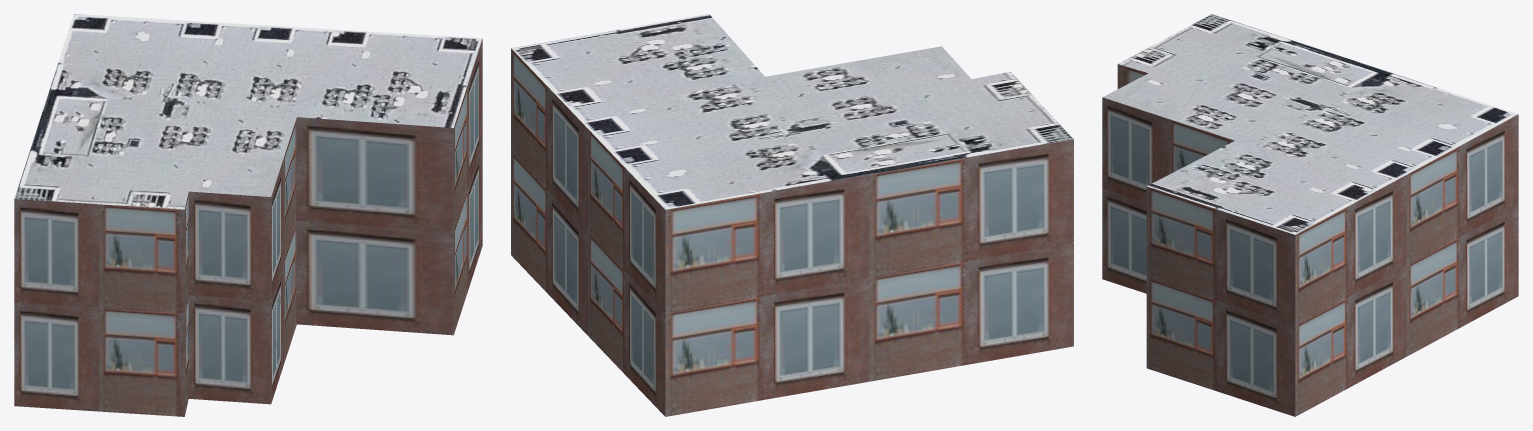
File: ResTex__1955.fbx
3 renders of one model, left to right at view 1: azimuth 30°, elevation 25°; view 2: azimuth 150°, elevation 25°; view 3: azimuth 270°, elevation 25°, orthographic. The views are drawn at different scales.
Parts seen in each view (by area): view 1: CityEngineMaterial_19_m, CityEngineMaterial_15_m; view 2: CityEngineMaterial_19_m, CityEngineMaterial_15_m; view 3: CityEngineMaterial_19_m, CityEngineMaterial_15_m.
Boxes of the visible parts, box(x1,y1,x2,y2) form: CityEngineMaterial_19_m: box(14, 39, 482, 416); CityEngineMaterial_15_m: box(14, 14, 482, 209); CityEngineMaterial_19_m: box(511, 48, 1073, 416); CityEngineMaterial_15_m: box(511, 14, 1073, 209); CityEngineMaterial_19_m: box(1102, 64, 1518, 416); CityEngineMaterial_15_m: box(1103, 14, 1517, 234).
Size of the model in its own units: 15.63 by 6 by 12.43.
2 materials, 2 textured.
